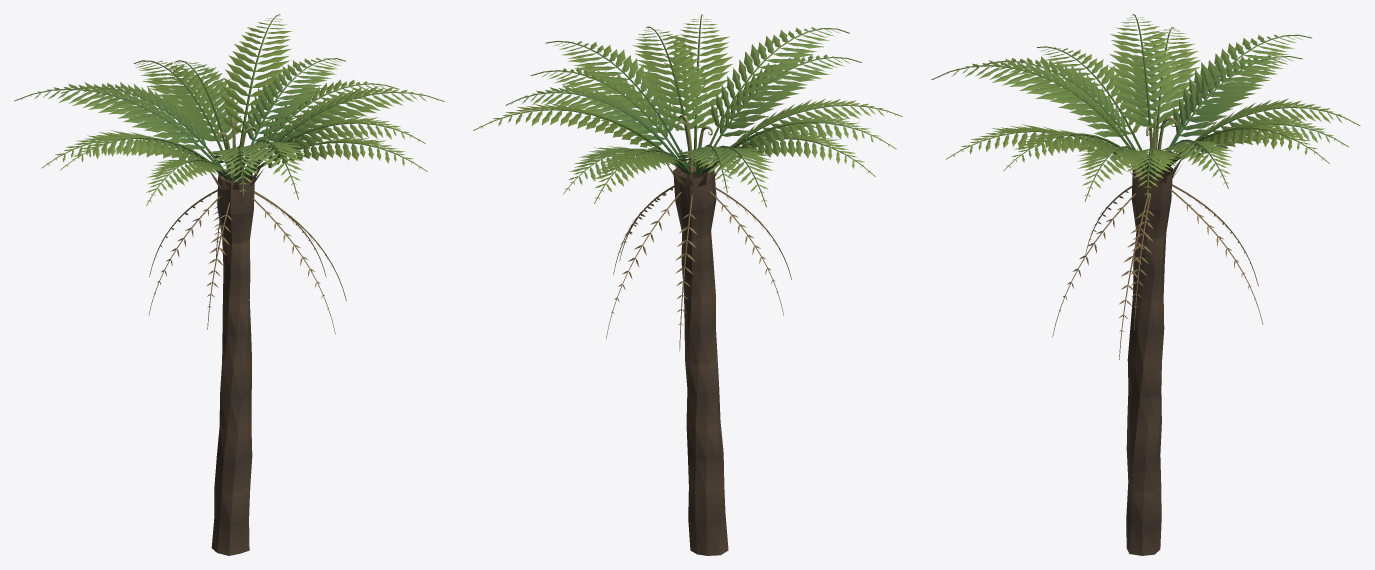
File: tree_fern_b.glb
The picture shows the model from 3 angles, left to right: view 1: azimuth 30°, elevation 25°; view 2: azimuth 150°, elevation 25°; view 3: azimuth 270°, elevation 25°; orthographic projection. The views are drawn at different scales.
Visible parts, largest first — view 1: tree_fern_b; view 2: tree_fern_b; view 3: tree_fern_b.
Boxes of the visible parts, bbox=[...] form: tree_fern_b: bbox=[14, 14, 444, 555]; tree_fern_b: bbox=[473, 14, 902, 555]; tree_fern_b: bbox=[931, 14, 1360, 555].
Bounding box in the file's own units: 4.44 × 5.3 × 4.37.
